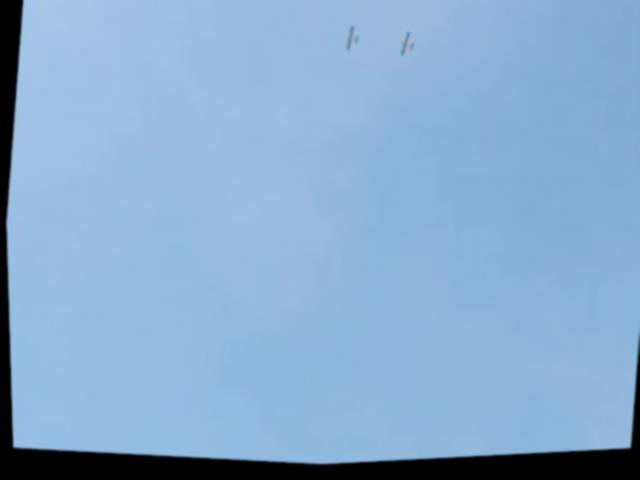uav: (342, 26, 362, 58), (397, 33, 416, 66)
